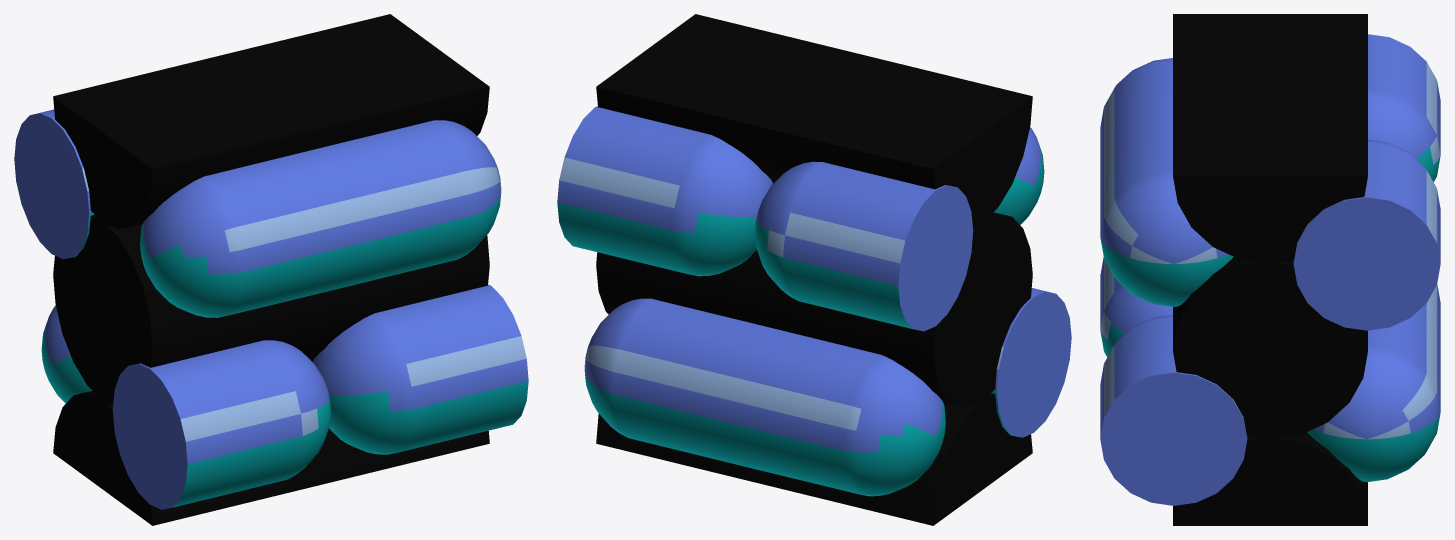
The model's file is br-m-pillbrick2-blue.fbx.
3 renders of one model, left to right at view 1: azimuth 30°, elevation 25°; view 2: azimuth 150°, elevation 25°; view 3: azimuth 270°, elevation 25°, orthographic.
Parts seen in each view (by area): view 1: pills, base; view 2: pills, base; view 3: pills, base.
Part boxes in pixels (x1,y1,x2,y2): pills: (14, 109, 528, 509); base: (53, 14, 489, 525); pills: (557, 106, 1071, 496); base: (596, 14, 1032, 525); pills: (1100, 34, 1440, 505); base: (1173, 14, 1367, 525).
Bounding box in the file's own units: 100 × 100 × 88.04.
